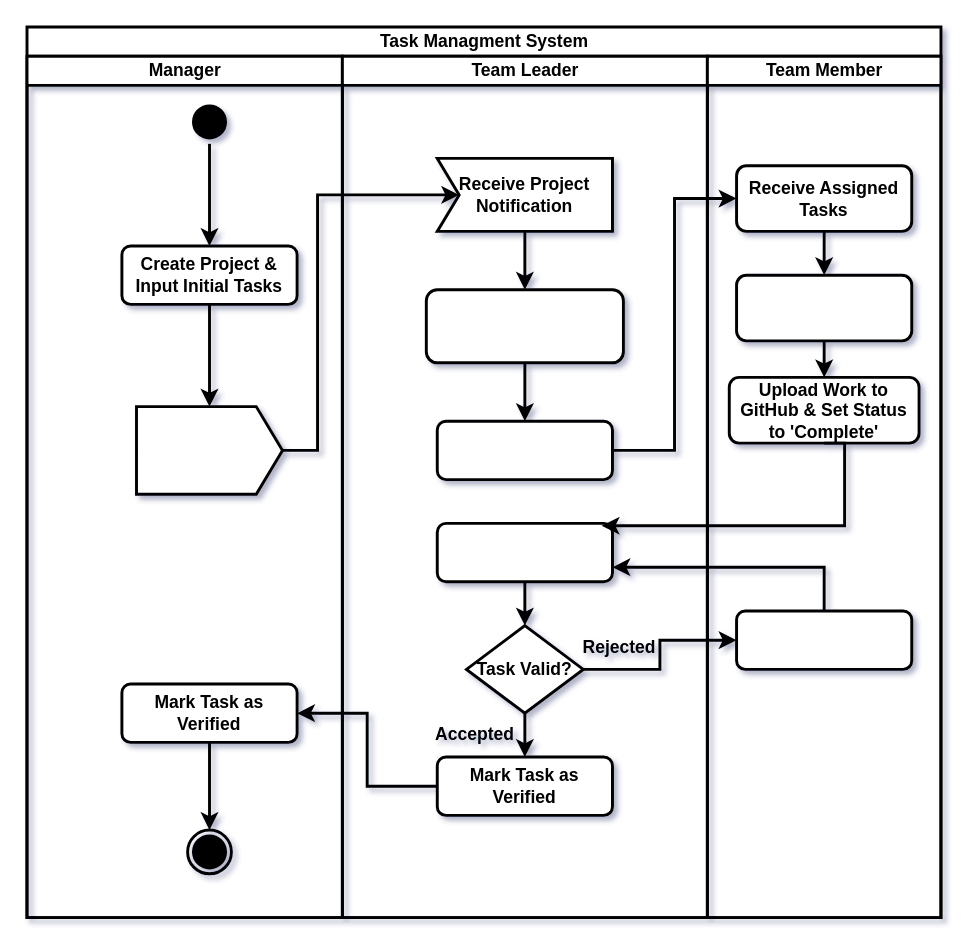
Image size: 975x952. Some labels were removed from this diagram. Here are the shapes that lost their labels. From the top down, the centre of each, then its label:
At (524,326): "Review Team Profiles & Skills".
At (823,307): "Update Status to 'In Progress'".
At (208,449): "Send Project Notification".
At (524,449): "Assign Tasks to Team Members".
At (524,552): "Review Submitted Task".
At (823,639): "Fix Issue".
